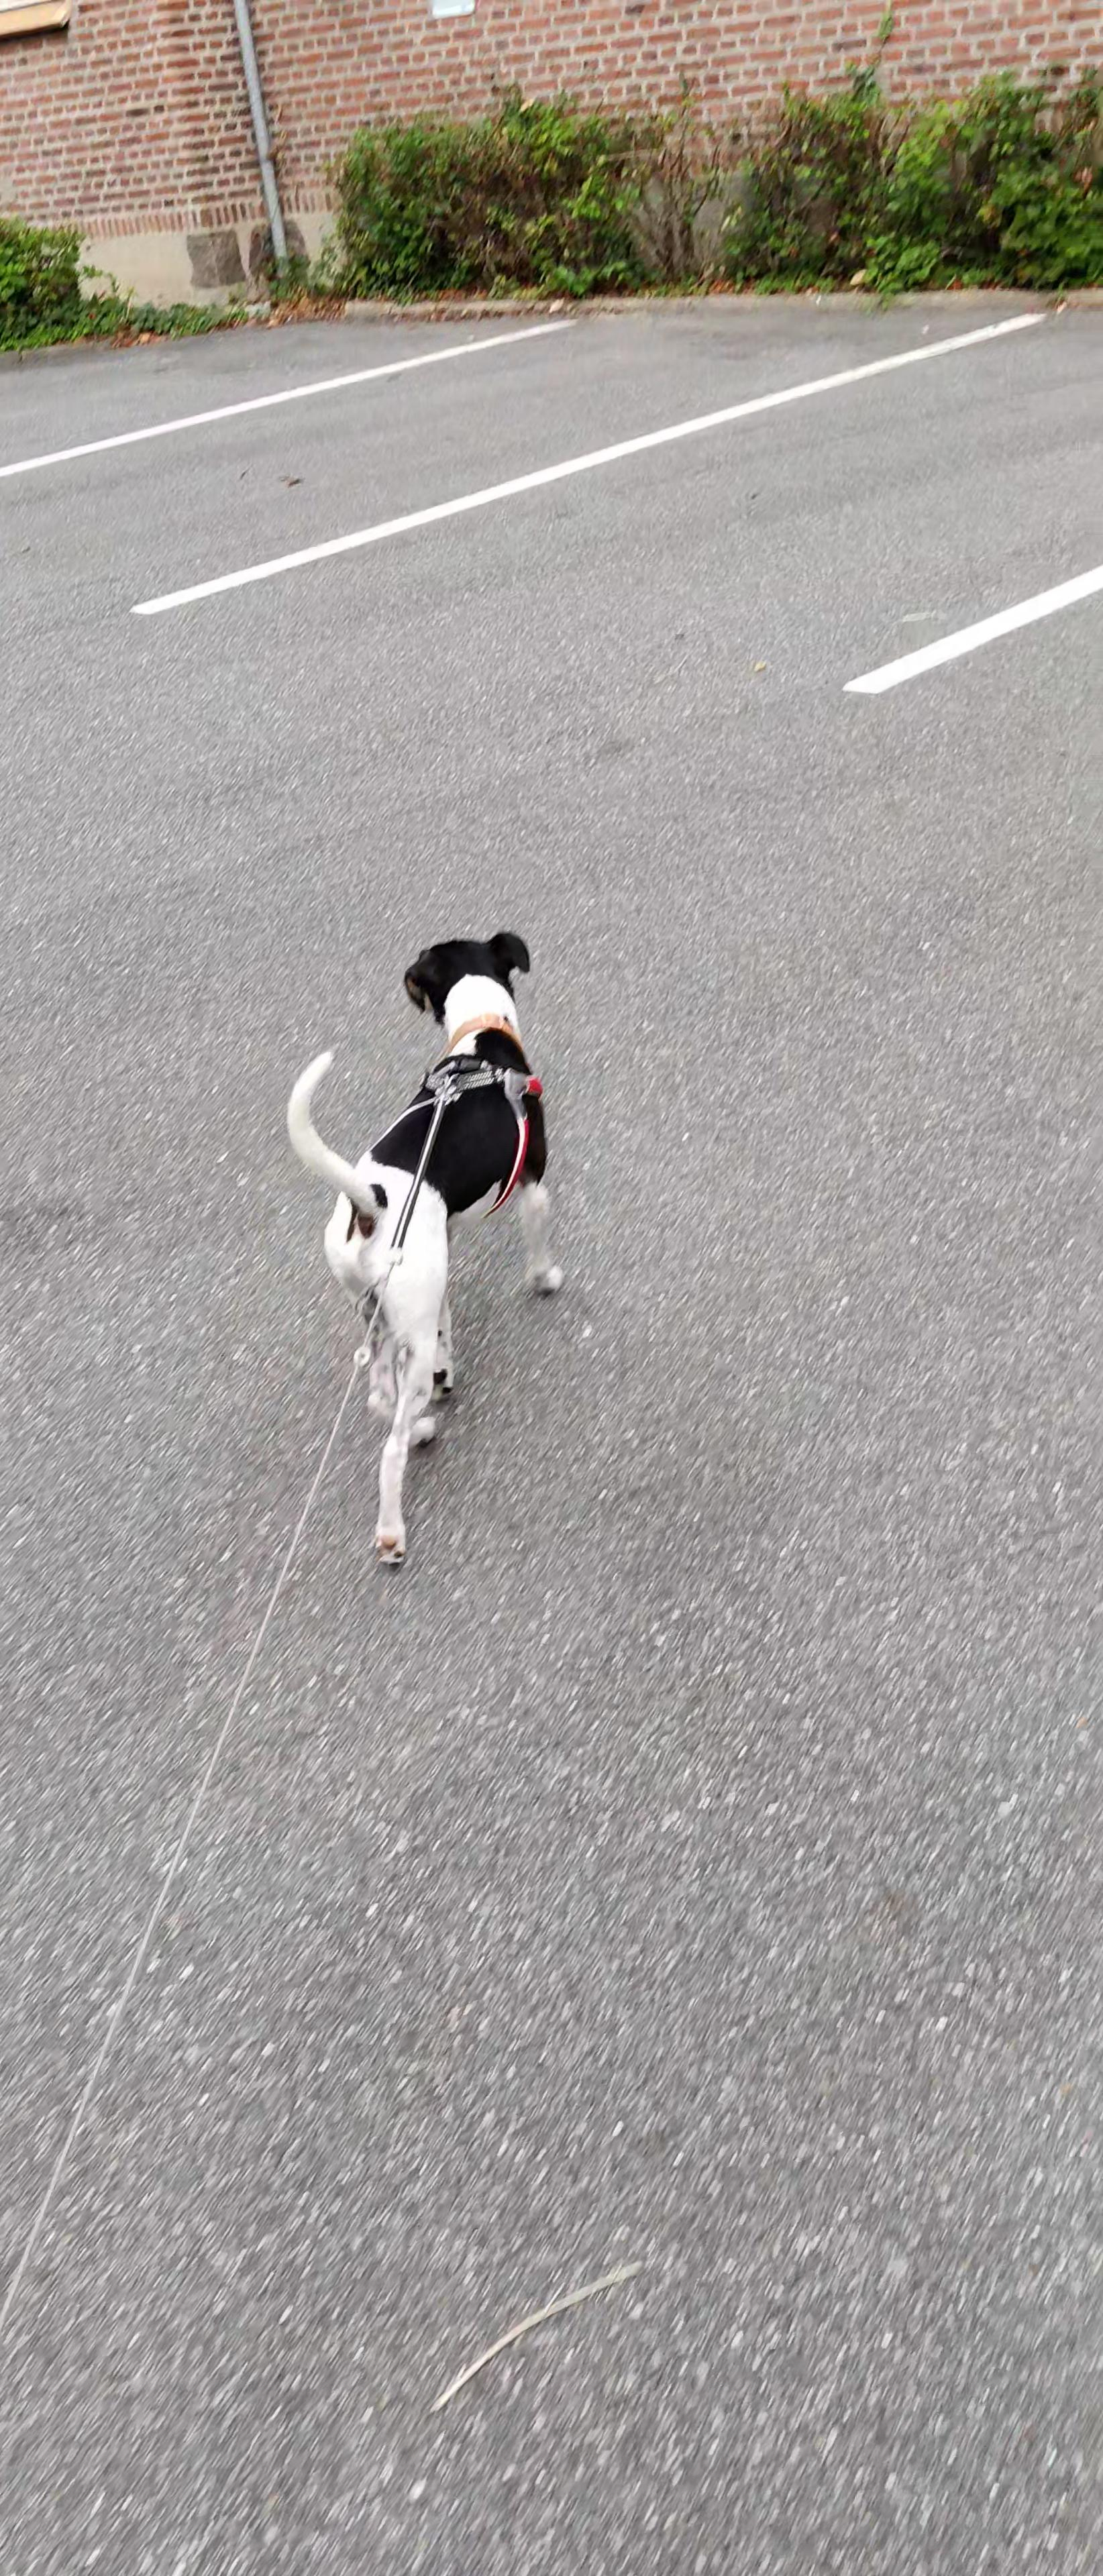Dog: (276, 928, 570, 1580)
